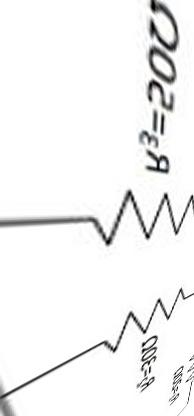resistor: (73, 175, 191, 246), (70, 294, 188, 347)
